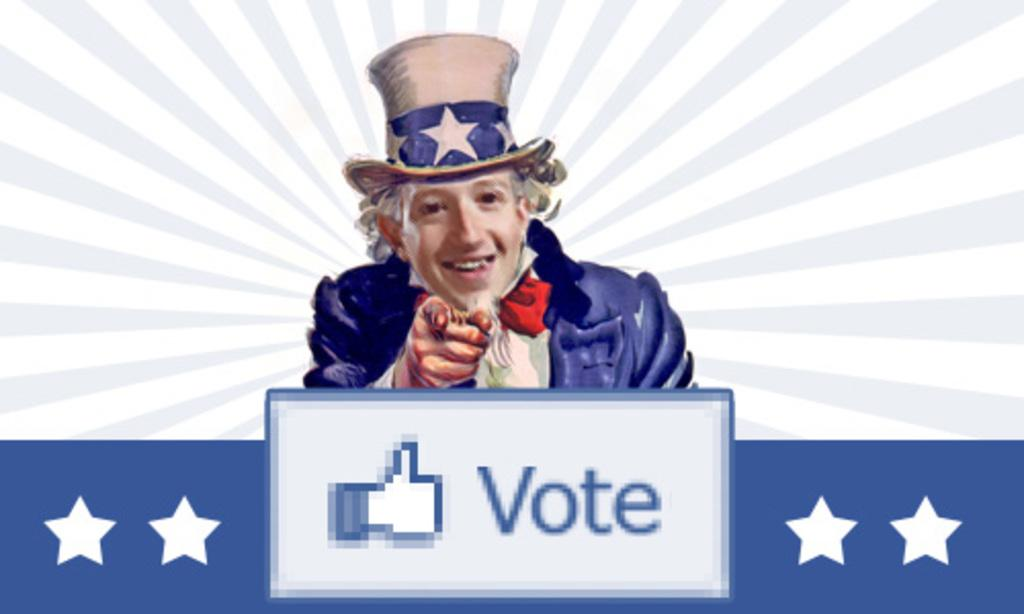Hat: (340, 27, 552, 196)
